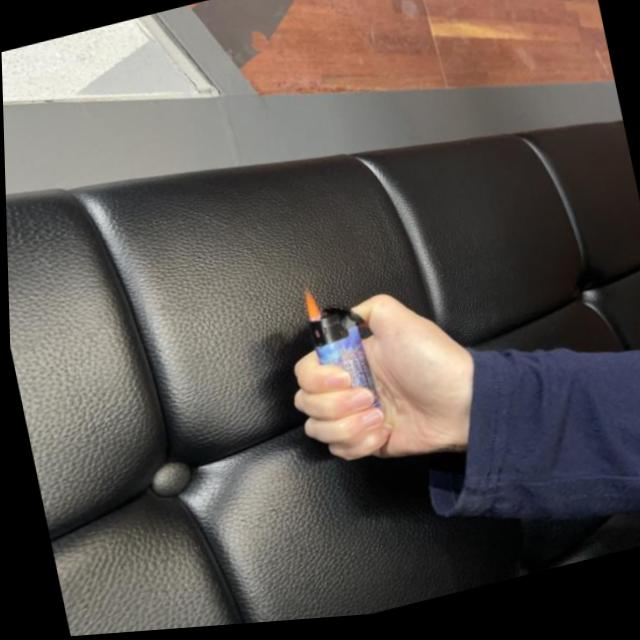Fire: (301, 290, 323, 327)
